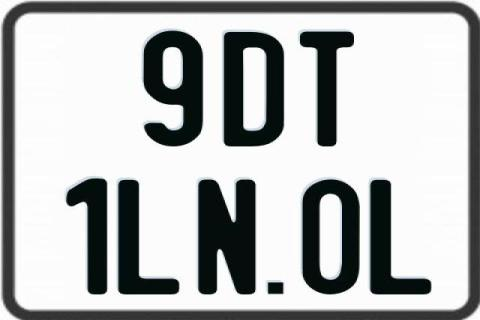0: (141, 28, 207, 145), (300, 180, 358, 298), (63, 177, 109, 293)
D: (223, 31, 284, 148)
L: (117, 179, 183, 297), (370, 180, 432, 298)
N: (195, 180, 254, 296)
T: (297, 32, 352, 150)
